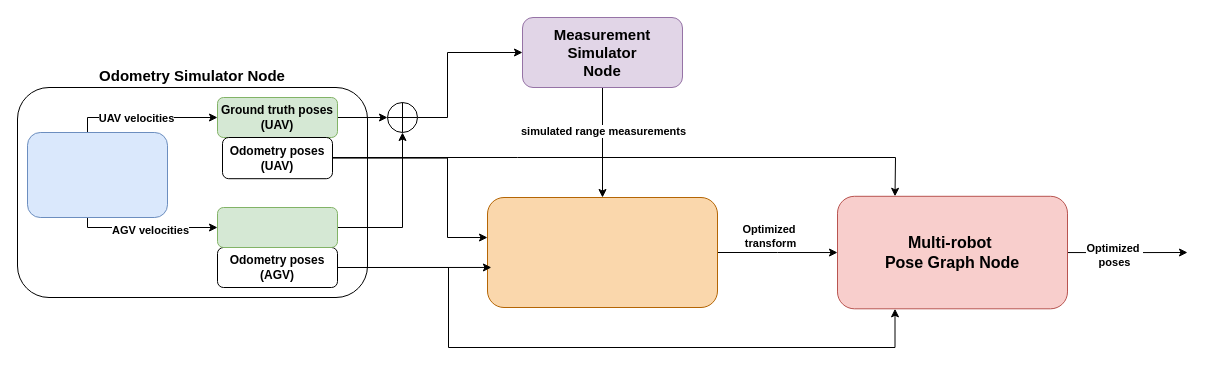
The diagram is 1213 pixels wide and 373 high, and some of its shapes have lost their labels. Here are the shapes that lost their labels. From the top down, the centre of each, then its label:
(97,175): Trajectory generator or Load trajectory
(277,227): Ground truth poses (AGV)
(602,252): Relative Transform Estimation Node
